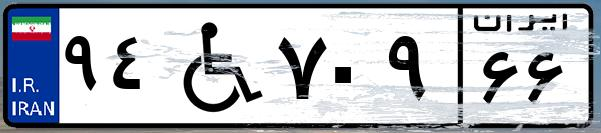0: (330, 28, 385, 110)
4: (110, 28, 158, 98)
6: (475, 38, 525, 113), (525, 38, 570, 115)
7: (270, 28, 330, 110)
9: (385, 28, 445, 110), (57, 26, 110, 100)
ژ (معلولین و جانبازان): (158, 12, 270, 120)
